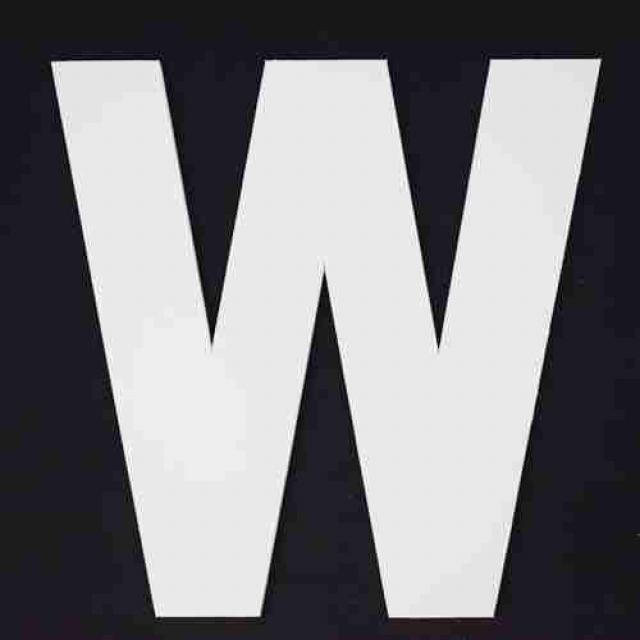W: (24, 26, 619, 634)
